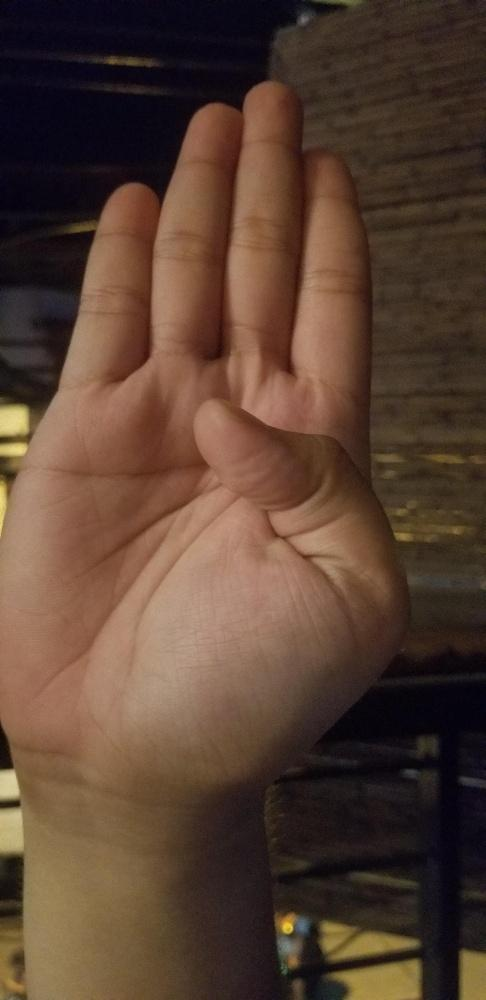b: (0, 74, 415, 795)
